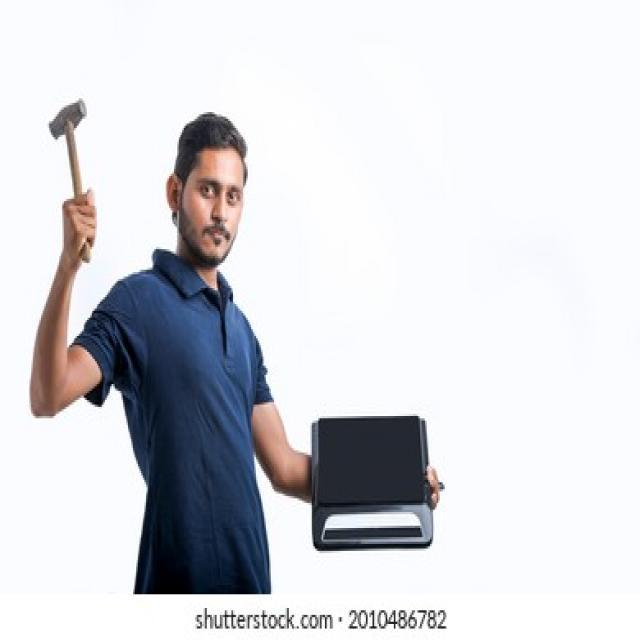hammer: (40, 80, 104, 270)
